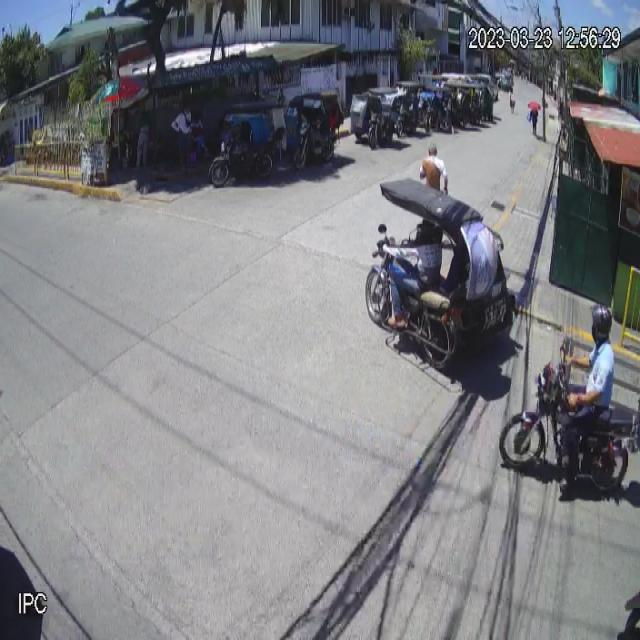Motorcycle: (498, 336, 639, 498)
Tricycle: (364, 174, 520, 370)
